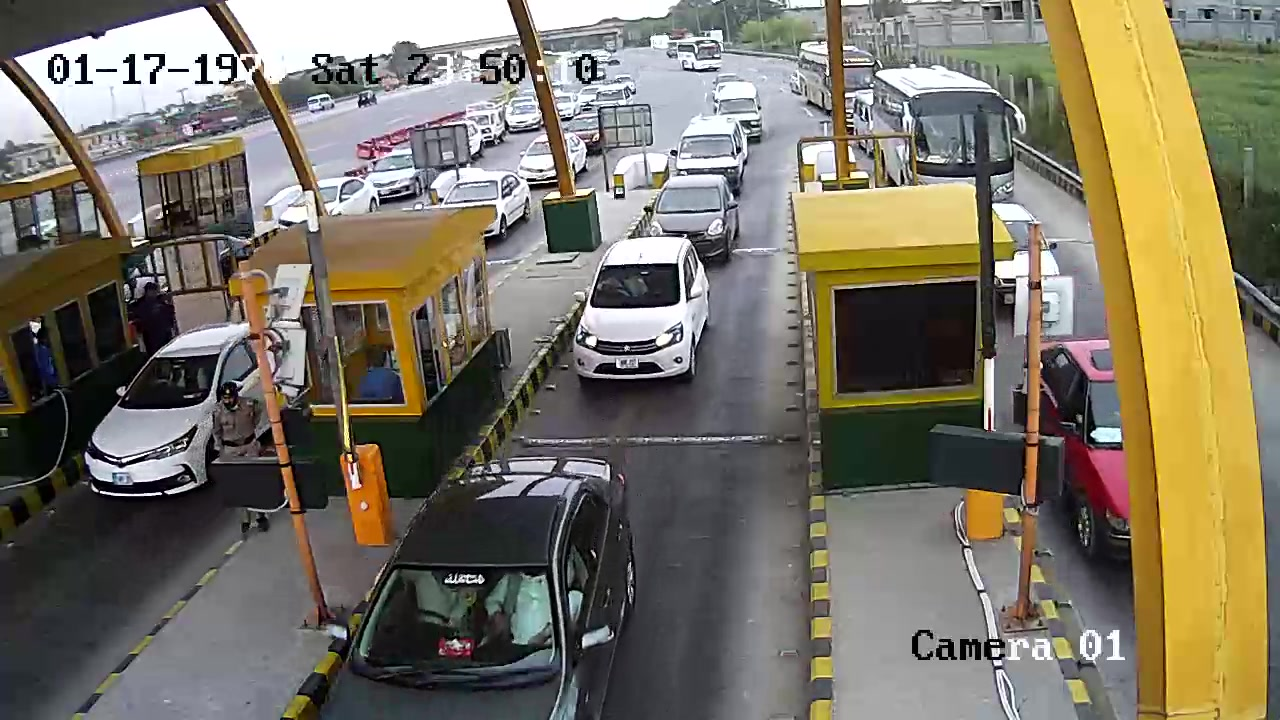F1: (561, 231, 724, 391)
